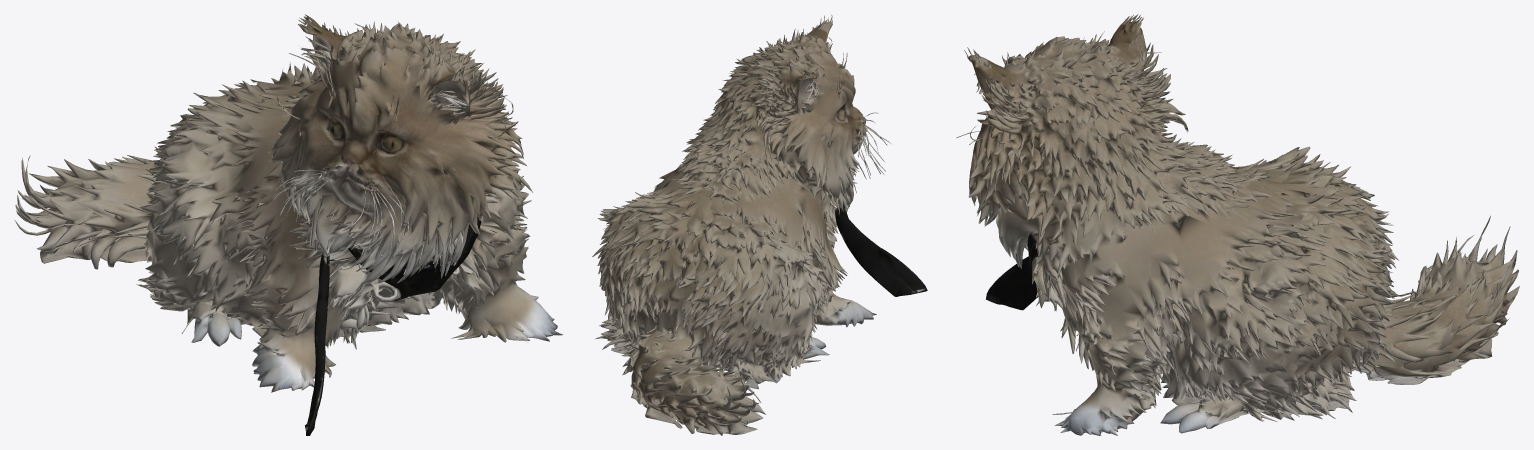
The model's file is whispurr-twin.glb.
3 renders of one model, left to right at view 1: azimuth 30°, elevation 25°; view 2: azimuth 150°, elevation 25°; view 3: azimuth 270°, elevation 25°, orthographic. The views are drawn at different scales.
Size of the model in its own units: 1.2 by 1.21 by 1.91.
Materials: 1 (1 with a texture image).
